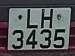3: (11, 29, 26, 51), (38, 29, 53, 50)
4: (24, 28, 39, 51)
5: (53, 28, 67, 51)
H: (39, 8, 56, 30)
L: (23, 9, 40, 29)
